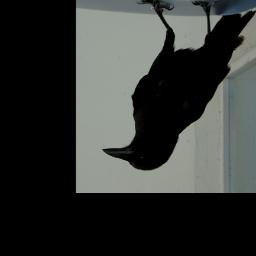Crow: (100, 0, 256, 171)
